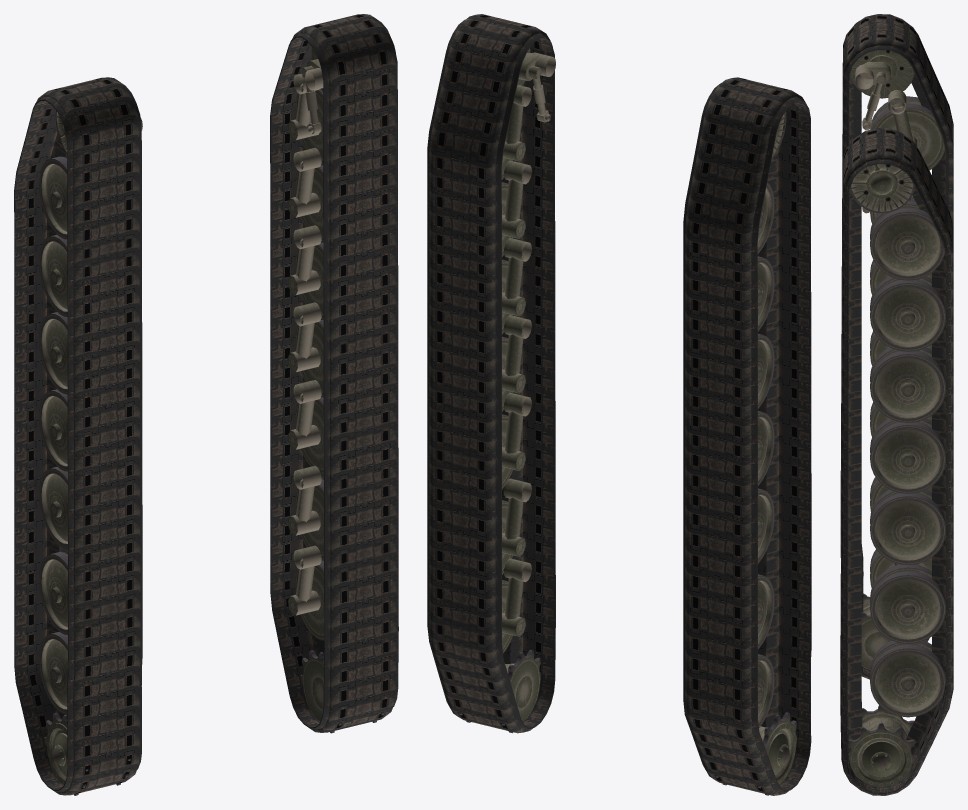
The model's file is Chassis.glb.
The picture shows the model from 3 angles, left to right: view 1: azimuth 30°, elevation 25°; view 2: azimuth 150°, elevation 25°; view 3: azimuth 270°, elevation 25°; orthographic projection. The views are drawn at different scales.
Parts seen in each view (by area): view 1: set_3_group_0, set_1_group_0, set_5_group_0, set_4_group_0, set_2_group_0; view 2: set_1_group_0, set_3_group_0, set_5_group_0, set_4_group_0, set_2_group_0; view 3: set_5_group_0, set_1_group_0, set_4_group_0, set_3_group_0, set_2_group_0, set_0_group_0.
Boxes of the visible parts, x1,y1,x2,y2 form: set_3_group_0: (14,77,142,795); set_1_group_0: (270,14,398,732); set_5_group_0: (288,47,386,733); set_4_group_0: (39,110,142,795); set_2_group_0: (16,105,66,172); set_1_group_0: (427,14,555,733); set_3_group_0: (683,77,811,795); set_5_group_0: (459,48,555,733); set_4_group_0: (715,111,796,795); set_2_group_0: (685,115,776,221); set_5_group_0: (848,164,945,786); set_1_group_0: (840,128,953,795); set_4_group_0: (850,50,945,669); set_3_group_0: (840,14,953,679); set_2_group_0: (911,36,949,135); set_0_group_0: (849,190,861,224).
Size of the model in its own units: 3.22 by 6.53 by 1.04.
Materials: 6 (6 with a texture image).
